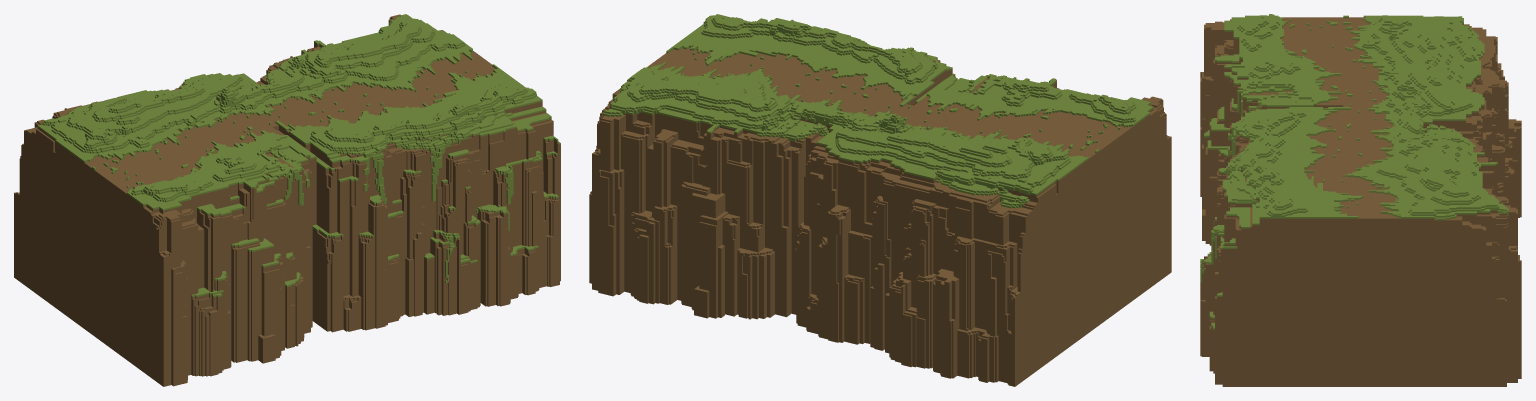
Rendered from forest1.2-40.obj.
3 views of the same model, side by side, from view 1: azimuth 30°, elevation 25°; view 2: azimuth 150°, elevation 25°; view 3: azimuth 270°, elevation 25° (orthographic). The views are drawn at different scales.
Size of the model in its own units: 25.6 by 11.1 by 17.3.
1 material, 1 textured.
